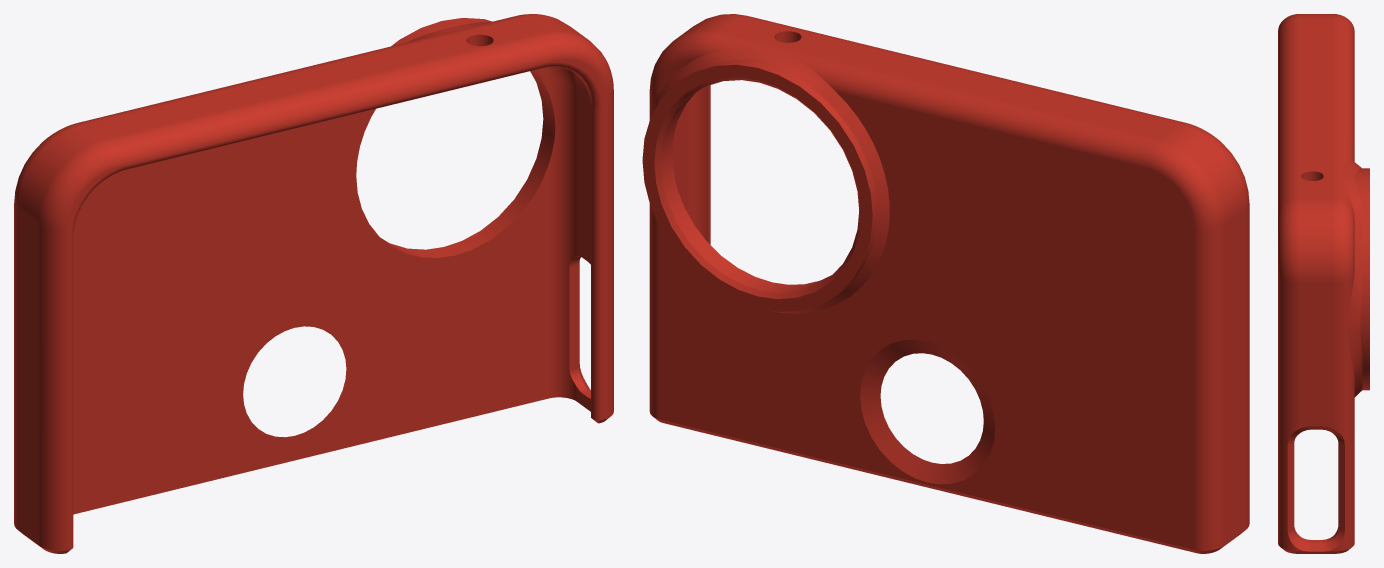
Rendered from Pixel3_to_RMS_objective.fbx.
3 views of the same model, side by side, from view 1: azimuth 30°, elevation 25°; view 2: azimuth 150°, elevation 25°; view 3: azimuth 270°, elevation 25° (orthographic). The views are drawn at different scales.
Visible parts, largest first — view 1: Pixel3 Protector; view 2: Pixel3 Protector; view 3: Pixel3 Protector.
Boxes of the visible parts, x1,y1,x2,y2 form: Pixel3 Protector: [14, 14, 613, 553]; Pixel3 Protector: [642, 14, 1249, 553]; Pixel3 Protector: [1278, 14, 1369, 553].
Bounding box in the file's own units: 72 × 47.53 × 12.
